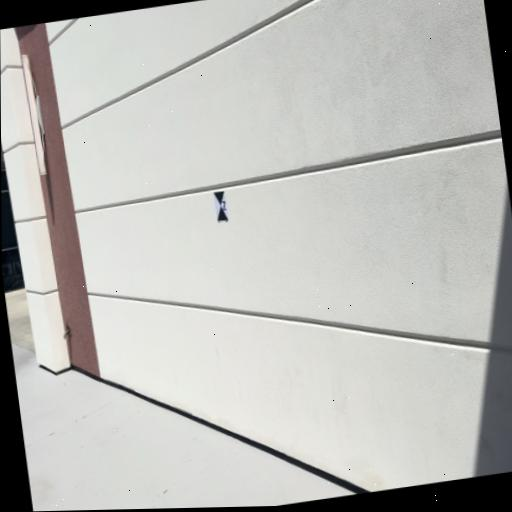target7: (213, 190, 230, 222)
